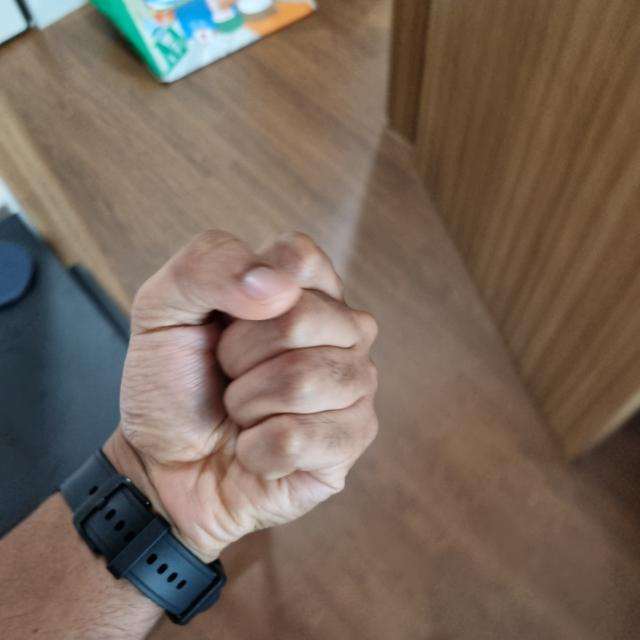Rock: (117, 230, 380, 507)
